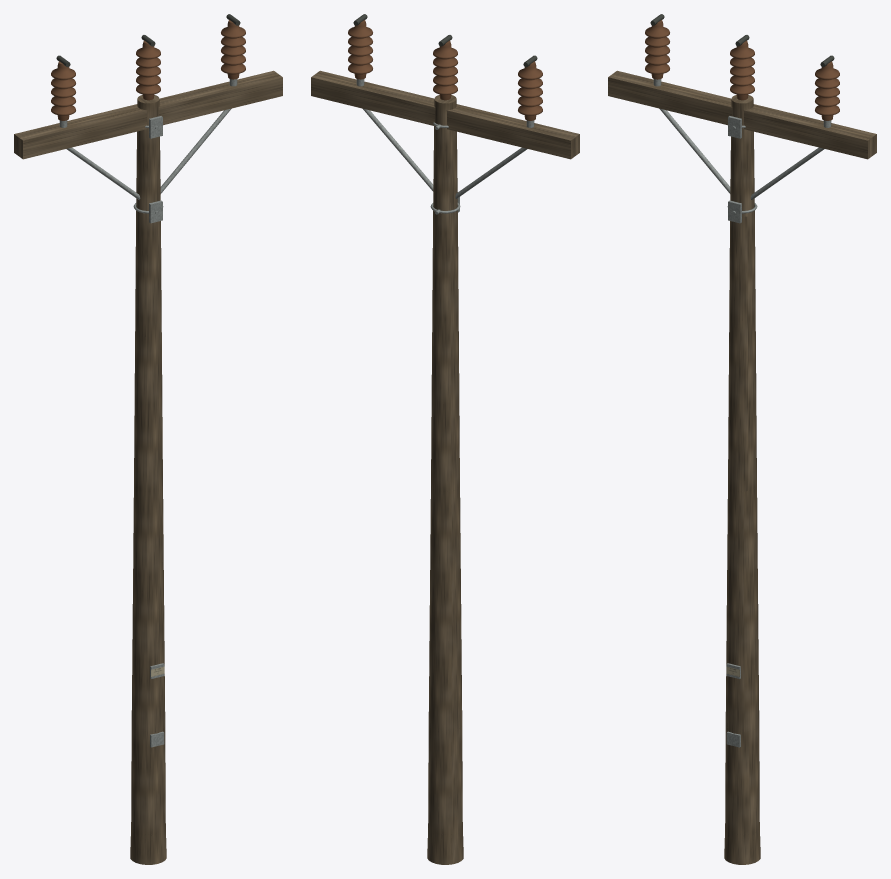
Rendered from SM_SubstationSite_Pole_B.glb.
3 views of the same model, side by side, from view 1: azimuth 30°, elevation 25°; view 2: azimuth 150°, elevation 25°; view 3: azimuth 330°, elevation 25° (orthographic).
Parts seen in each view (by area): view 1: SM_SubstationSite_Pole_B; view 2: SM_SubstationSite_Pole_B; view 3: SM_SubstationSite_Pole_B.
Part boxes in pixels (bbox=[...]): SM_SubstationSite_Pole_B: bbox=[14, 14, 282, 864]; SM_SubstationSite_Pole_B: bbox=[311, 14, 579, 864]; SM_SubstationSite_Pole_B: bbox=[608, 14, 876, 864].
Size of the model in its own units: 3.18 by 9.58 by 0.394.
5 materials, 3 textured.
